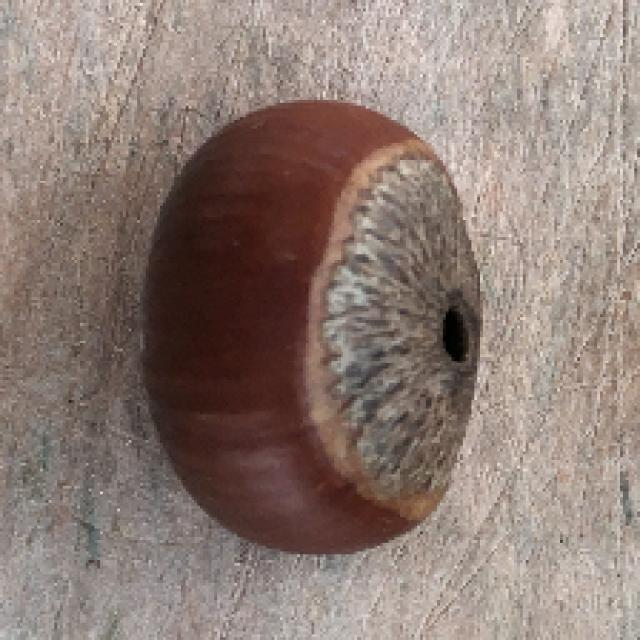DamagedHazelnut: (141, 99, 483, 556)
